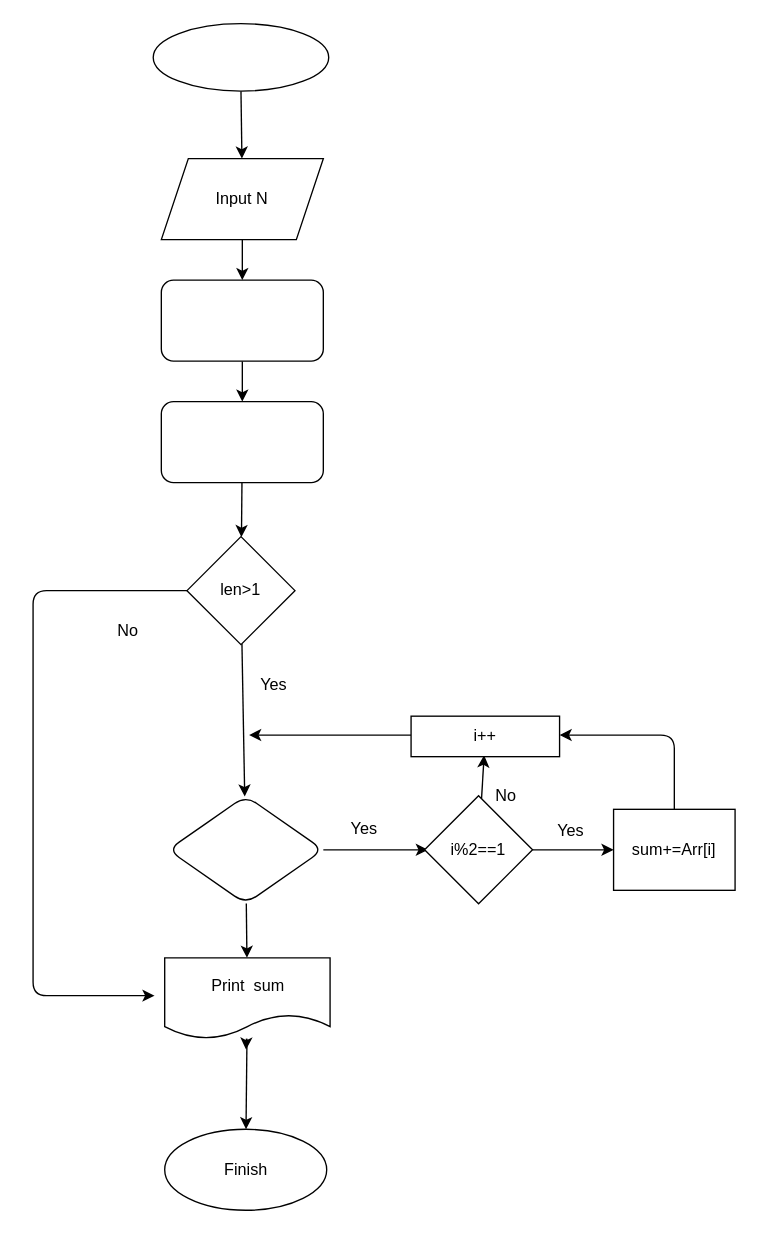
This 759x1234 diagram has some shape labels left out. The box of each missing label's shape, as (x1, y1, x2, y2) in pixels:
Generate random Arr[N]: (160, 279, 323, 361)
i<Arr.Length: (167, 794, 323, 904)
i=0 sum=0 len=Array.Length: (160, 400, 323, 483)
Start: (152, 22, 329, 91)
